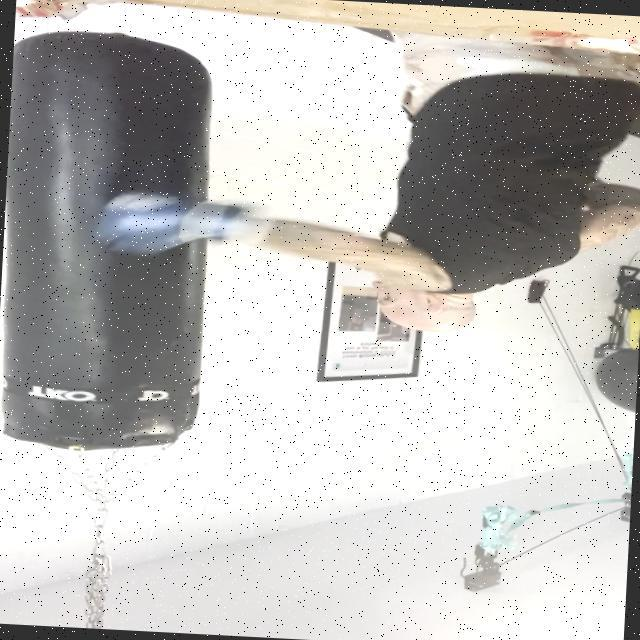bag: (0, 34, 239, 457)
hook: (87, 127, 640, 375)
